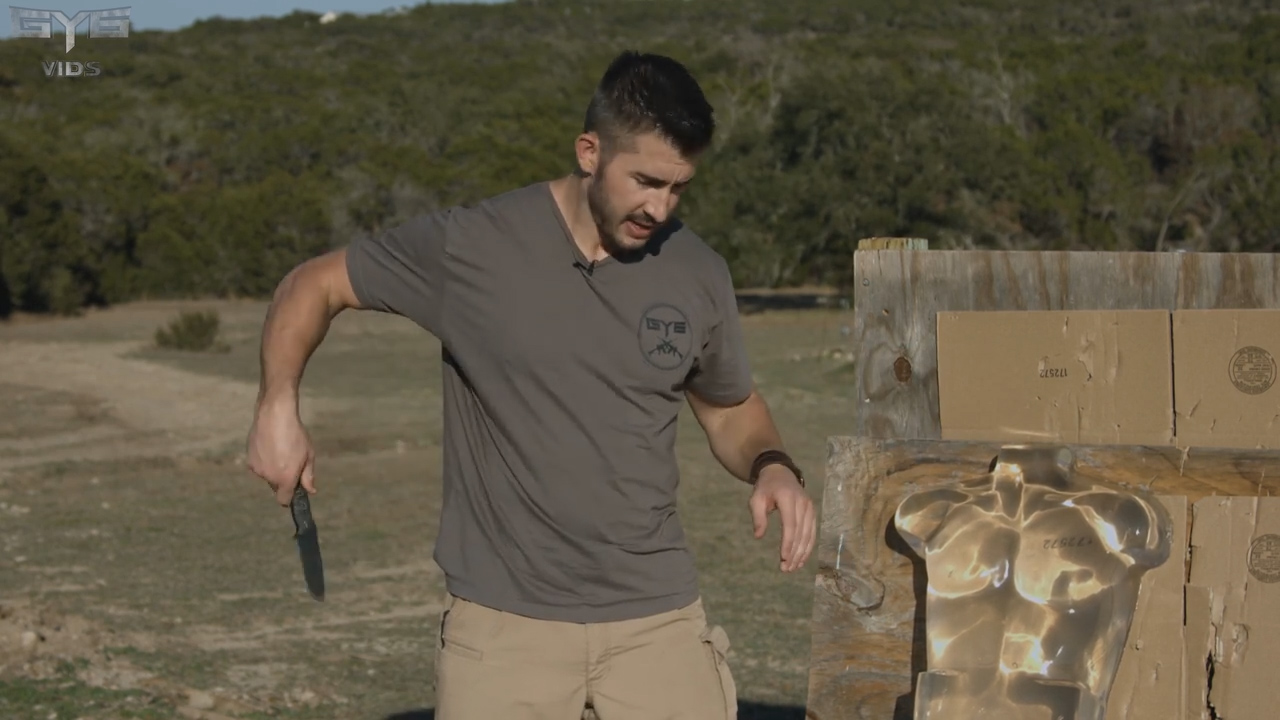knife: (238, 440, 341, 615)
